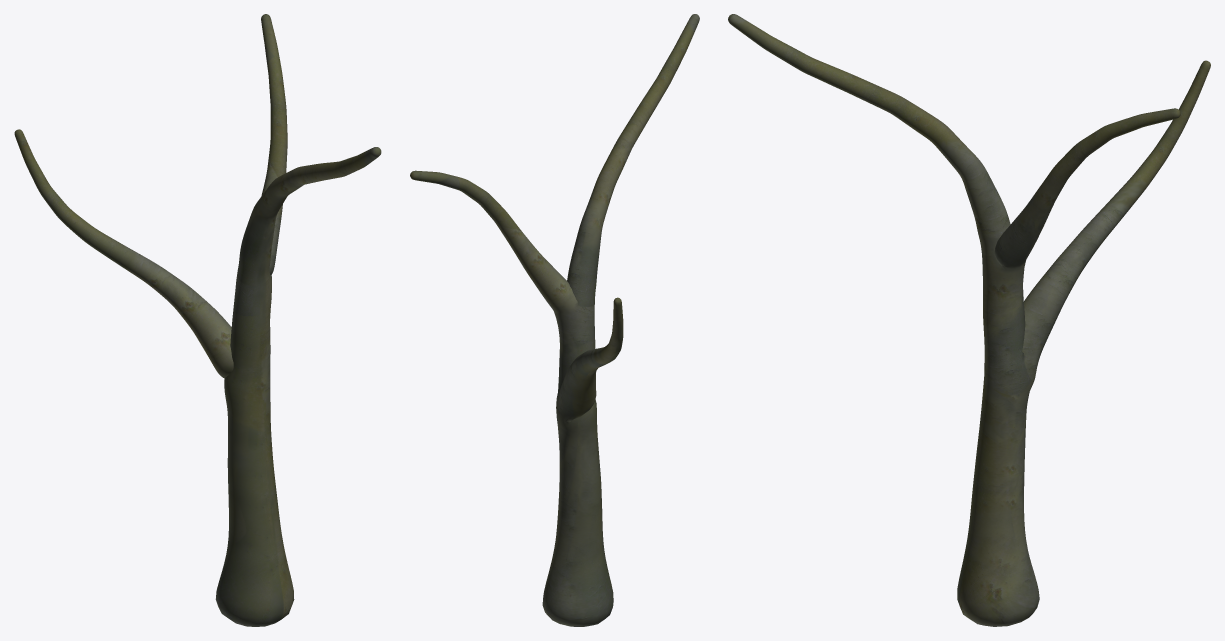
The model's file is beechTrunk.glb.
3 views of the same model, side by side, from view 1: azimuth 30°, elevation 25°; view 2: azimuth 150°, elevation 25°; view 3: azimuth 270°, elevation 25° (orthographic). The views are drawn at different scales.
Parts seen in each view (by area): view 1: trunk; view 2: trunk; view 3: trunk.
Part boxes in pixels (bbox=[...]): trunk: bbox=[14, 14, 381, 626]; trunk: bbox=[410, 14, 699, 626]; trunk: bbox=[728, 14, 1210, 626].
Size of the model in its own units: 2.15 by 4.8 by 3.48.
Materials: 1 (1 with a texture image).
